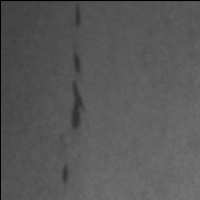inclusion: (66, 77, 88, 132), (70, 49, 85, 79), (58, 159, 73, 188), (70, 2, 84, 30)
